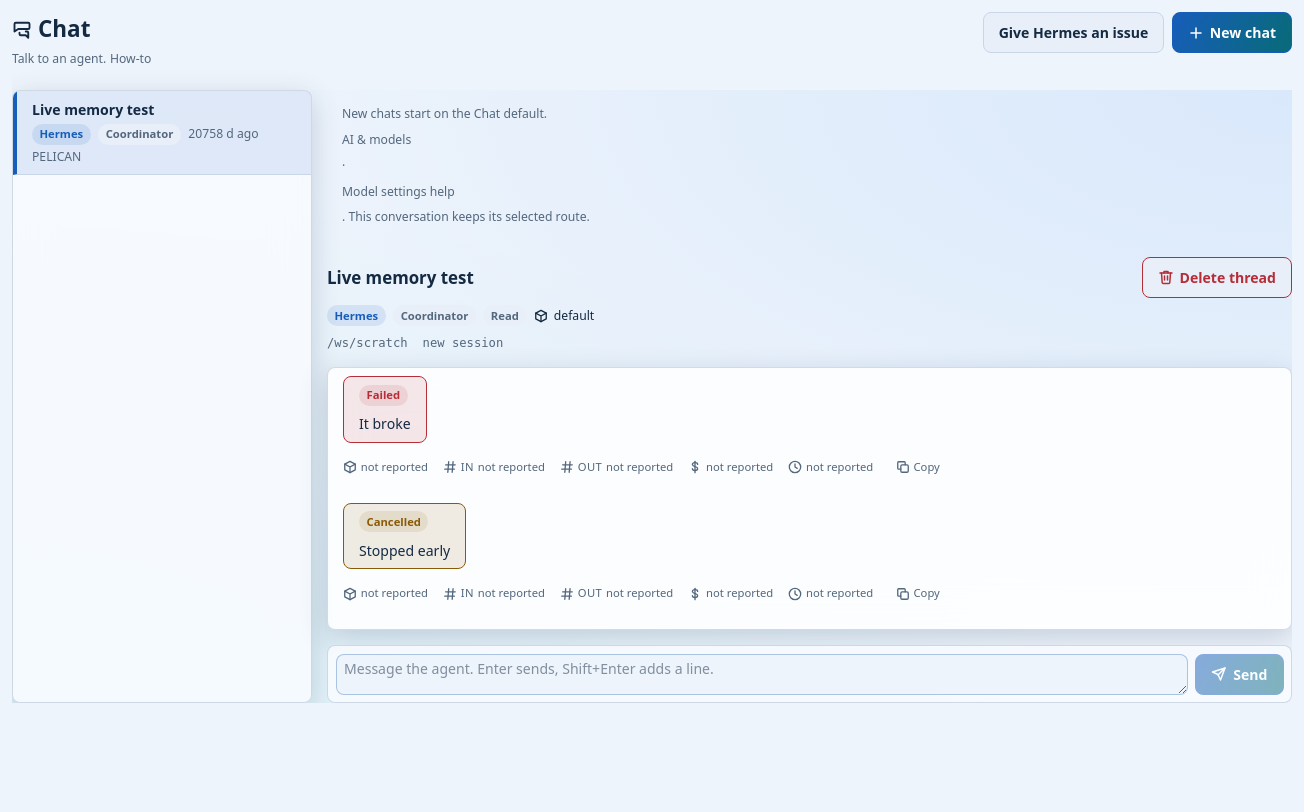
Test: Chat view › styles failed and cancelled assistant messages and says copy is unavailable without a clipboard
Expected: the element with class "msg" shows "Failed", [366, 388, 400, 402]
Expected: the element with class "msg" shows "Cancelled", [366, 514, 421, 529]
Click the button with aria-label "Copy message" at (918, 467), box [888, 447, 947, 488]
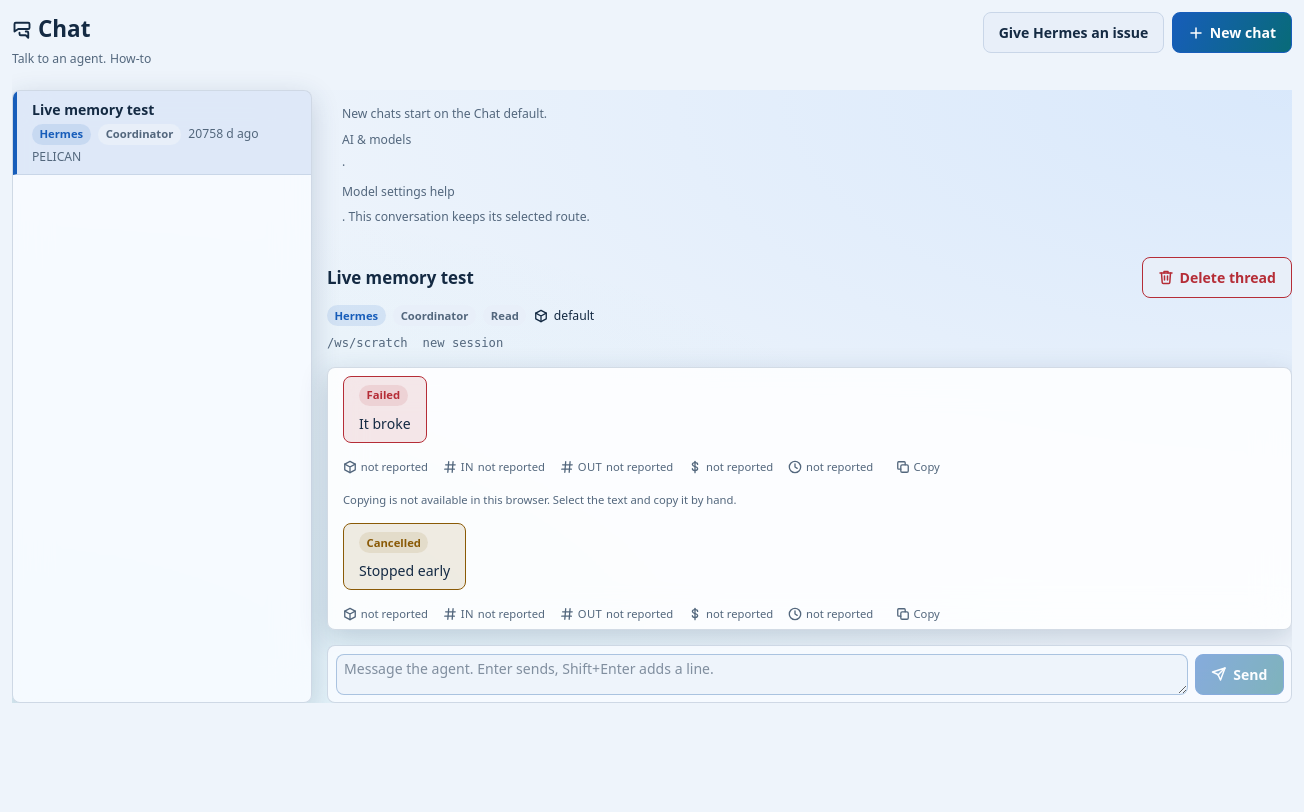
Now the message with test id "copy-unavailable" shows "not available", box [343, 492, 736, 507]
